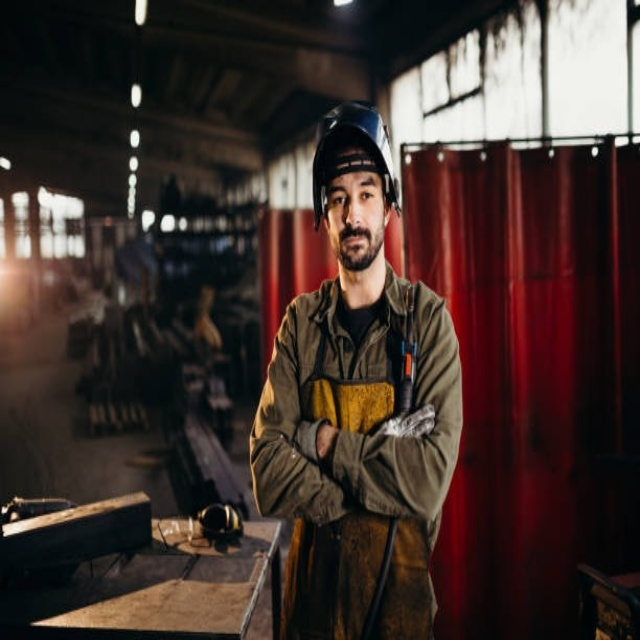Guantes: (378, 403, 436, 440)
Sin_gafas: (330, 177, 381, 213)
Sin_mascara: (338, 226, 374, 265)
